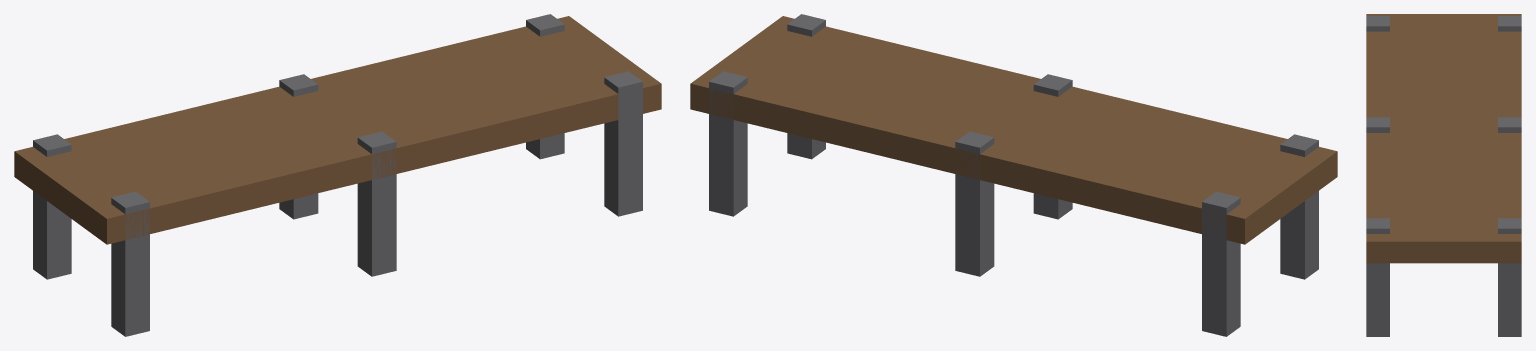
File: pier_1995.glb
3 renders of one model, left to right at view 1: azimuth 30°, elevation 25°; view 2: azimuth 150°, elevation 25°; view 3: azimuth 270°, elevation 25°, orthographic. The views are drawn at different scales.
Parts seen in each view (by area): view 1: Deck, Post_2_R, Post_1_R, Post_0_R, Post_0_L, Post_1_L, Post_2_L; view 2: Deck, Post_0_L, Post_2_L, Post_1_L, Post_0_R, Post_1_R, Post_2_R; view 3: Deck, Post_2_L, Post_2_R, Post_0_L, Post_0_R, Post_1_L, Post_1_R.
Part boxes in pixels (x1,y1,x2,y2): Deck: (14,16,661,244); Post_2_R: (604,71,642,216); Post_1_R: (357,131,396,276); Post_0_R: (111,191,149,336); Post_0_L: (33,134,71,279); Post_1_L: (279,74,318,219); Post_2_L: (526,14,564,159); Deck: (690,16,1337,244); Post_0_L: (1202,191,1240,336); Post_2_L: (709,71,747,216); Post_1_L: (955,131,994,276); Post_0_R: (1280,134,1318,279); Post_1_R: (1033,74,1072,219); Post_2_R: (787,14,825,159); Deck: (1366,14,1521,263); Post_2_L: (1498,218,1521,336); Post_2_R: (1366,218,1389,336); Post_0_L: (1498,16,1521,31); Post_0_R: (1366,16,1389,31); Post_1_L: (1498,117,1521,132); Post_1_R: (1366,117,1389,132).
Bounding box in the file's own units: 0.9 × 0.2 × 0.26.
